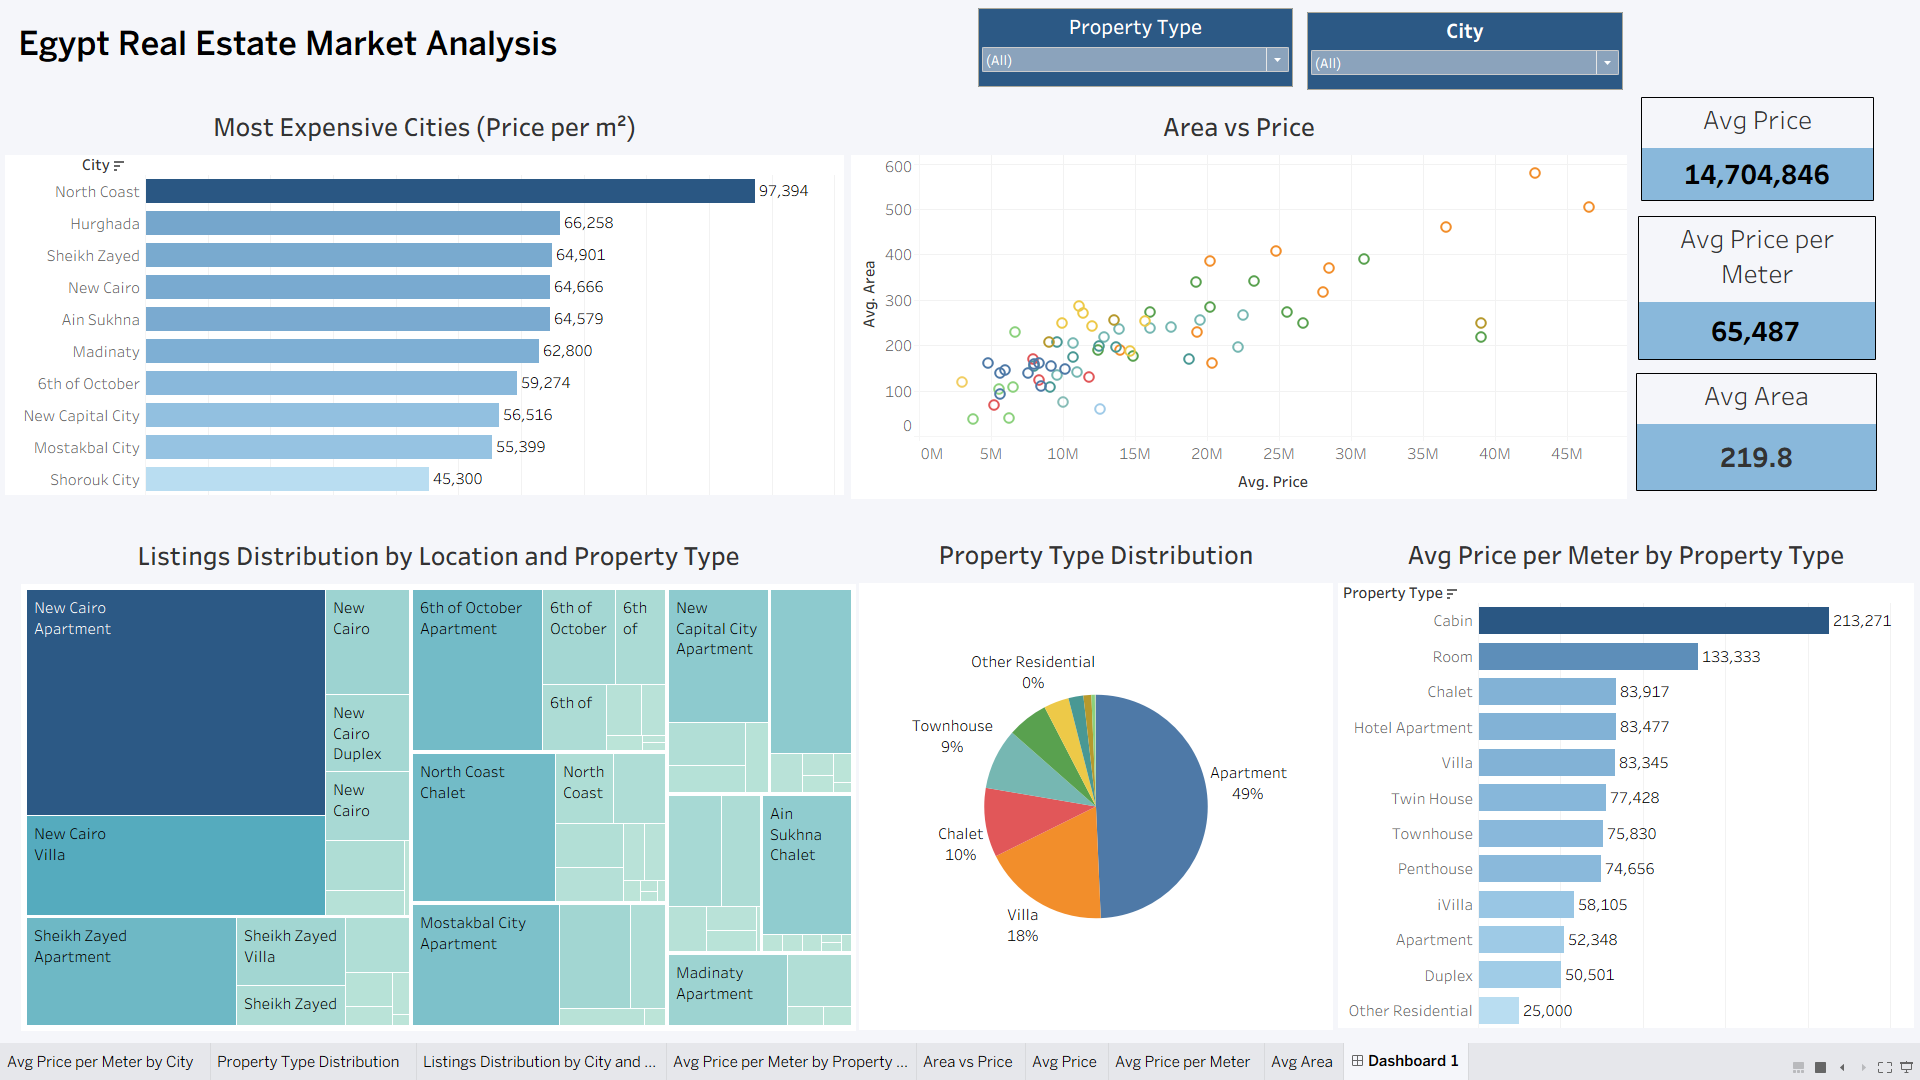

The dashboard page shown, as its layout file describes it:
{"tool":"tableau","page":{"name":"Dashboard 1","canvas":[1000,1000],"units":"permille","ordinal":0},"visuals":[{"type":"filter","title":"Listings Distribution by City and Property Type","param":"[federated.1euvjw60dxh5if176bpqt17cgk0p].[none:property_type:nk]","box":[509.4,8.1,164.2,75.5]},{"type":"filter","title":"Listings Distribution by City and Property Type","param":"[federated.1euvjw60dxh5if176bpqt17cgk0p].[none:city:nk]","box":[680.8,11.6,164.8,74.3]},{"type":"text","box":[7.9,15.1,423.7,52.3]},{"type":"worksheet","title":"Avg Price","mark":"Text","box":[854.6,92.9,121.3,99.9]},{"type":"worksheet","title":"Avg Price per Meter by City","mark":"Automatic","rows":["city"],"cols":["price_per_m"],"box":[2.4,101,436.9,374]},{"type":"worksheet","title":"Area vs Price","mark":"Automatic","rows":["area"],"cols":["price"],"box":[443,101,404.4,377.5]},{"type":"worksheet","title":"Avg Price per Meter","mark":"Automatic","box":[853.4,206.7,123.7,138.2]},{"type":"worksheet","title":"Avg Area","mark":"Automatic","box":[852.1,357.7,125.5,112.7]},{"type":"worksheet","title":"Property Type Distribution","mark":"Pie","box":[447.2,511,246.8,476.2]},{"type":"worksheet","title":"Avg Price per Meter by Property Type","mark":"Automatic","rows":["property_type"],"cols":["price_per_m"],"box":[697,511,299.9,475]},{"type":"worksheet","title":"Listings Distribution by City and Property Type","mark":"Automatic","box":[10.9,512.2,435.1,476.2]}]}

Visuals, with their boxes on the dashboard's canvas, which has no fixed pixel size, in thousandths of its width and height (x1, y1, x2, y2). These are canvas units, not pixel positions in the 1920x1080 screenshot, which may show the page scaled, cropped or inside an application window:
"Listings Distribution by City and Property Type" filter: select_region(509, 8, 674, 84)
"Listings Distribution by City and Property Type" filter: select_region(681, 12, 846, 86)
text: select_region(8, 15, 432, 67)
"Avg Price" worksheet (Text marks): select_region(855, 93, 976, 193)
"Avg Price per Meter by City" worksheet: select_region(2, 101, 439, 475)
"Area vs Price" worksheet: select_region(443, 101, 847, 478)
"Avg Price per Meter" worksheet: select_region(853, 207, 977, 345)
"Avg Area" worksheet: select_region(852, 358, 978, 470)
"Property Type Distribution" worksheet (Pie marks): select_region(447, 511, 694, 987)
"Avg Price per Meter by Property Type" worksheet: select_region(697, 511, 997, 986)
"Listings Distribution by City and Property Type" worksheet: select_region(11, 512, 446, 988)
